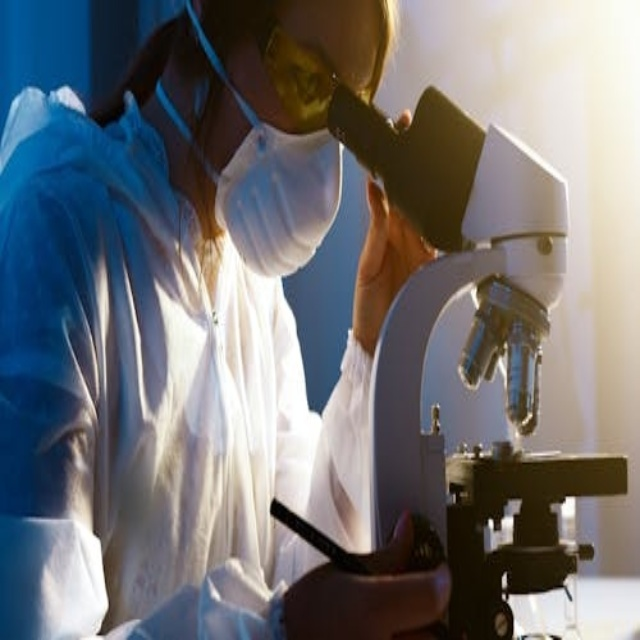Gafas: (253, 9, 385, 126)
Mascara: (176, 2, 353, 281)
Sin_guantes: (278, 506, 453, 640), (352, 126, 442, 352)
